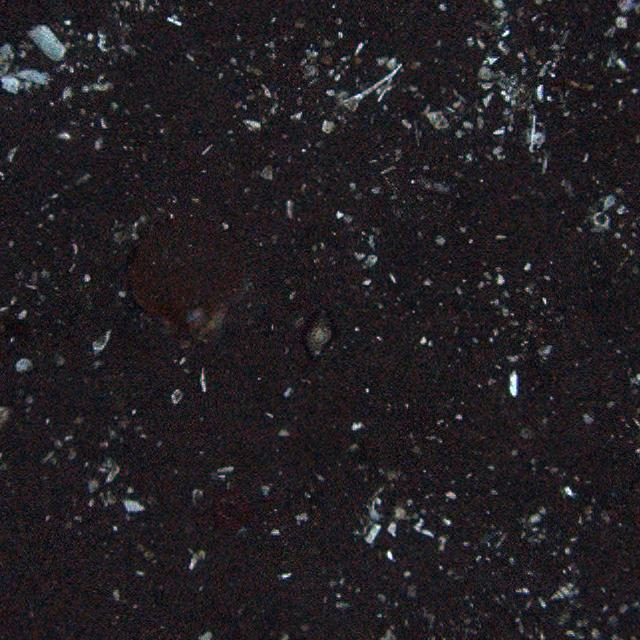whelk: (301, 310, 336, 360)
